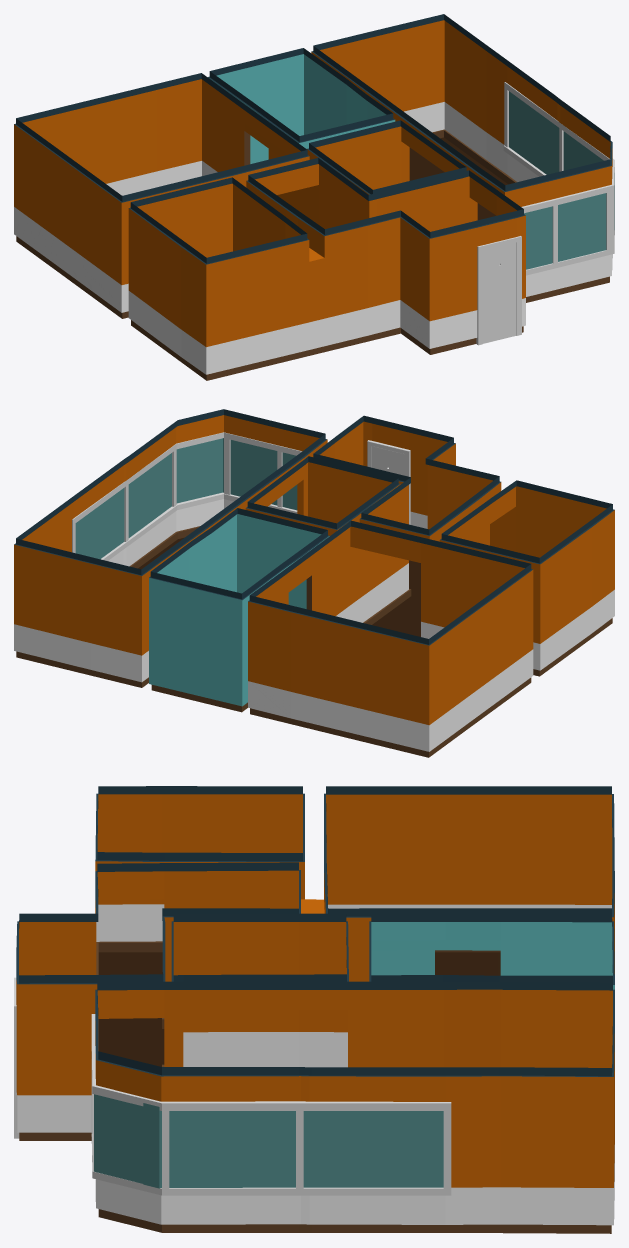
File: Casa15.FBX
3 views of the same model, one above another, from view 1: azimuth 30°, elevation 25°; view 2: azimuth 150°, elevation 25°; view 3: azimuth 270°, elevation 25° (orthographic). The views are drawn at different scales.
Parts seen in each view (by area): view 1: Plane001, Object001, Object003, Box002, Box001; view 2: Plane001, Object001, Object003, Box002, Box001; view 3: Plane001, Object001, Object003.
Part boxes in pixels (x1,y1,x2,y2): Plane001: (14, 14, 612, 380); Object001: (509, 91, 614, 269); Object003: (503, 82, 614, 275); Box002: (483, 242, 516, 343); Box001: (476, 236, 521, 345); Plane001: (14, 409, 614, 757); Object001: (75, 438, 297, 559); Object003: (72, 432, 301, 560); Box002: (372, 446, 404, 475); Box001: (367, 440, 410, 524); Plane001: (16, 786, 614, 1233); Object001: (94, 1094, 443, 1188); Object003: (91, 1014, 451, 1195).
Bounding box in the file's own units: 235 × 63.96 × 209.
